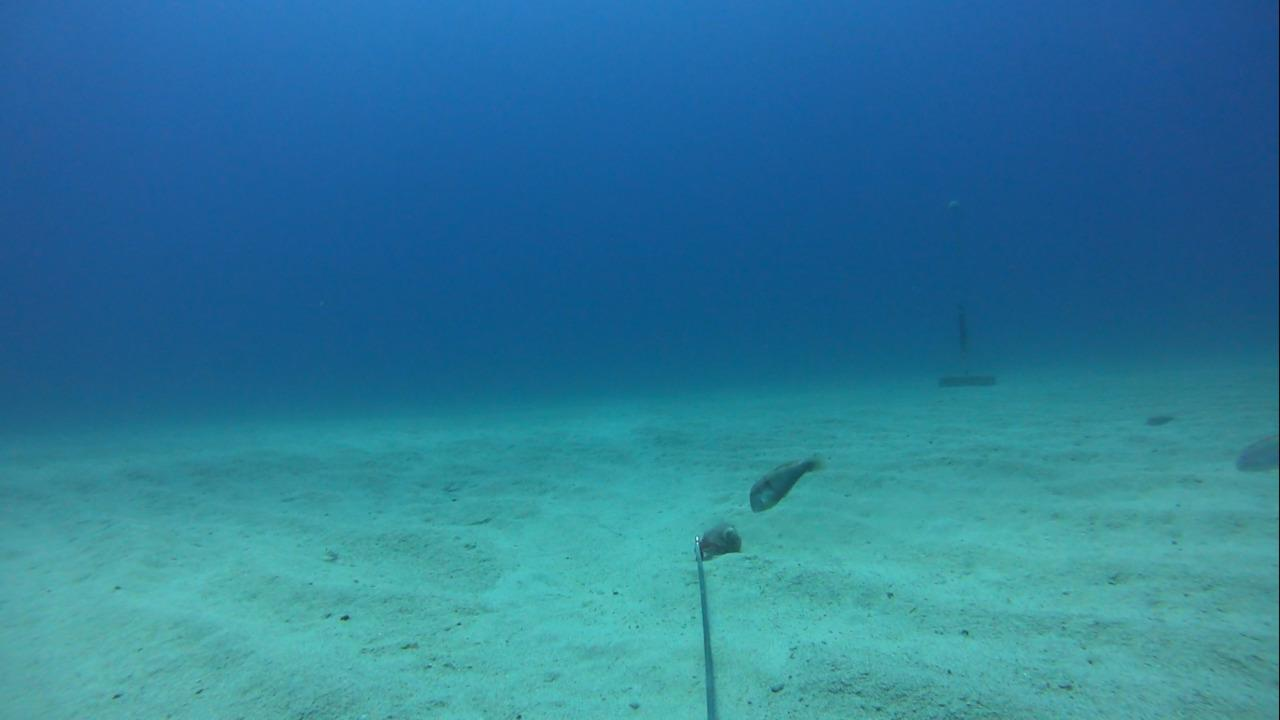raor: (741, 441, 834, 519), (1224, 420, 1279, 485)
